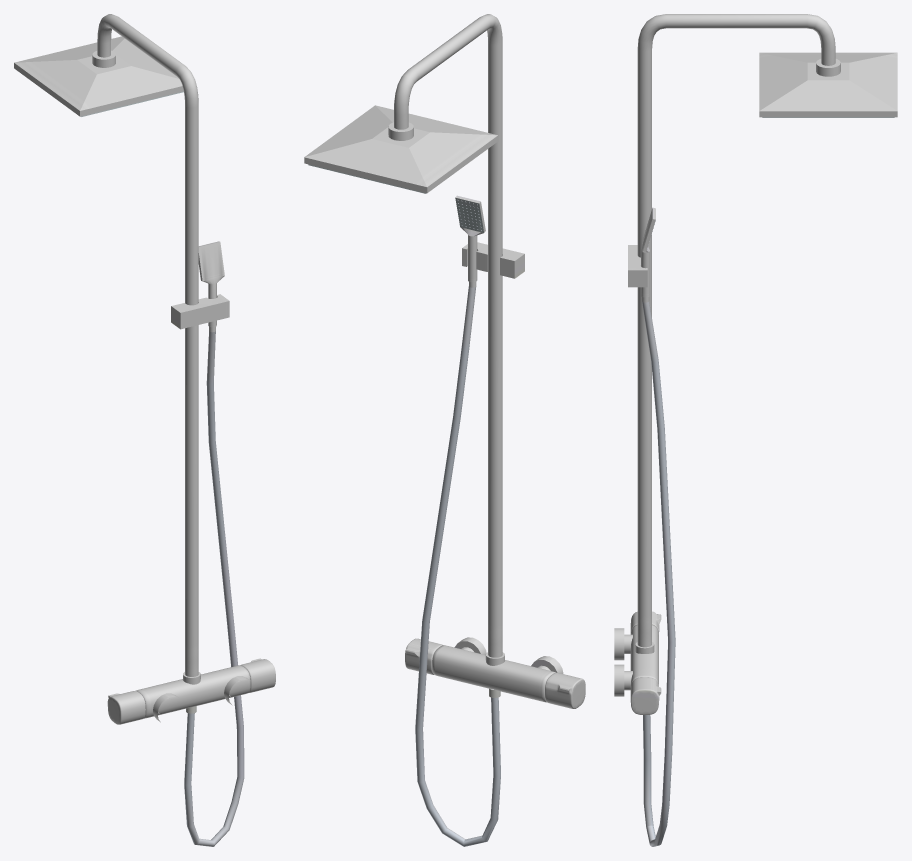
The model's file is ShowerSystem02.glb.
3 renders of one model, left to right at view 1: azimuth 30°, elevation 25°; view 2: azimuth 150°, elevation 25°; view 3: azimuth 270°, elevation 25°, orthographic. The views are drawn at different scales.
Visible parts, largest first — view 1: ShowerSystem02_model, ShowerSystem02Lever01, ShowerSystem02Lever02; view 2: ShowerSystem02_model, ShowerSystem02Lever01, ShowerSystem02Lever02; view 3: ShowerSystem02_model, ShowerSystem02Lever02.
Part boxes in pixels (x1,y1,x2,y2): ShowerSystem02_model: (14, 14, 250, 846); ShowerSystem02Lever01: (107, 691, 145, 724); ShowerSystem02Lever02: (240, 658, 275, 692); ShowerSystem02_model: (304, 14, 563, 846); ShowerSystem02Lever01: (545, 672, 585, 708); ShowerSystem02Lever02: (405, 638, 443, 674); ShowerSystem02_model: (614, 14, 897, 846); ShowerSystem02Lever02: (630, 677, 661, 714).
Bounding box in the file's own units: 0.7058 × 3.4 × 1.06.
1 material, 1 textured.
